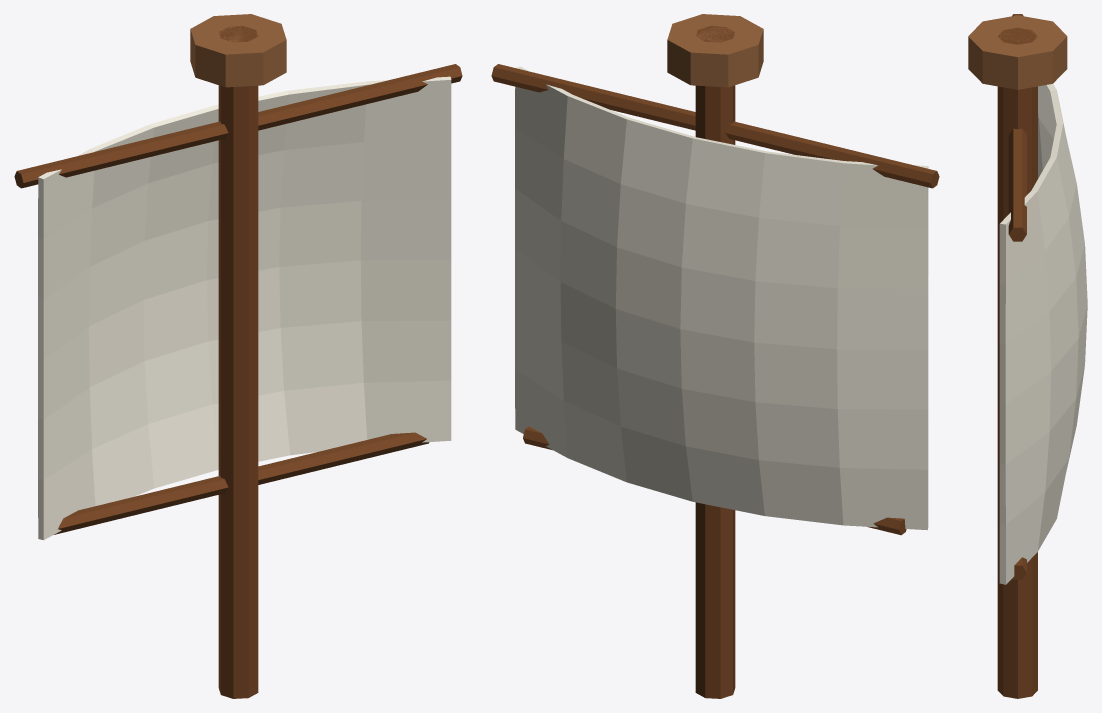
Rendered from SmallMast.fbx.
The picture shows the model from 3 angles, left to right: view 1: azimuth 30°, elevation 25°; view 2: azimuth 150°, elevation 25°; view 3: azimuth 270°, elevation 25°; orthographic projection.
Parts seen in each view (by area): view 1: SmallMast; view 2: SmallMast; view 3: SmallMast.
Boxes of the visible parts, <box> form: SmallMast: <box>14,14,462,698</box>; SmallMast: <box>491,14,939,698</box>; SmallMast: <box>968,14,1087,698</box>.
Size of the model in its own units: 11.2 by 16 by 2.65.
1 material, 1 textured.
